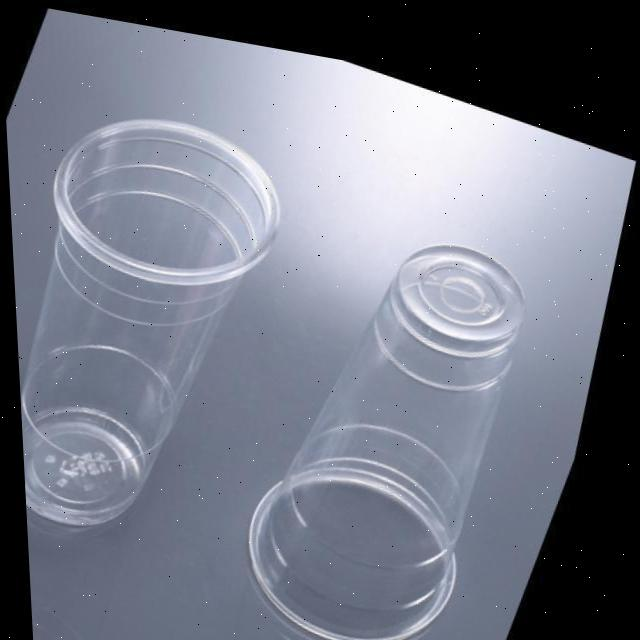cup: (242, 236, 532, 640), (15, 114, 290, 538)
